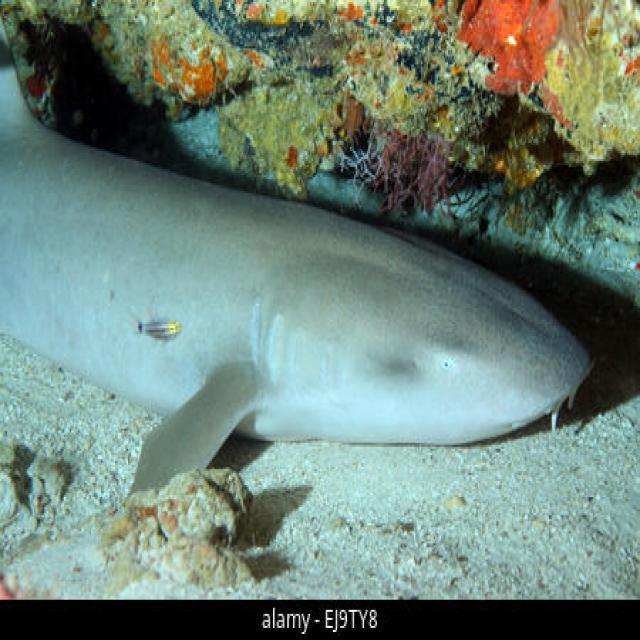Shark: (0, 52, 619, 497)
